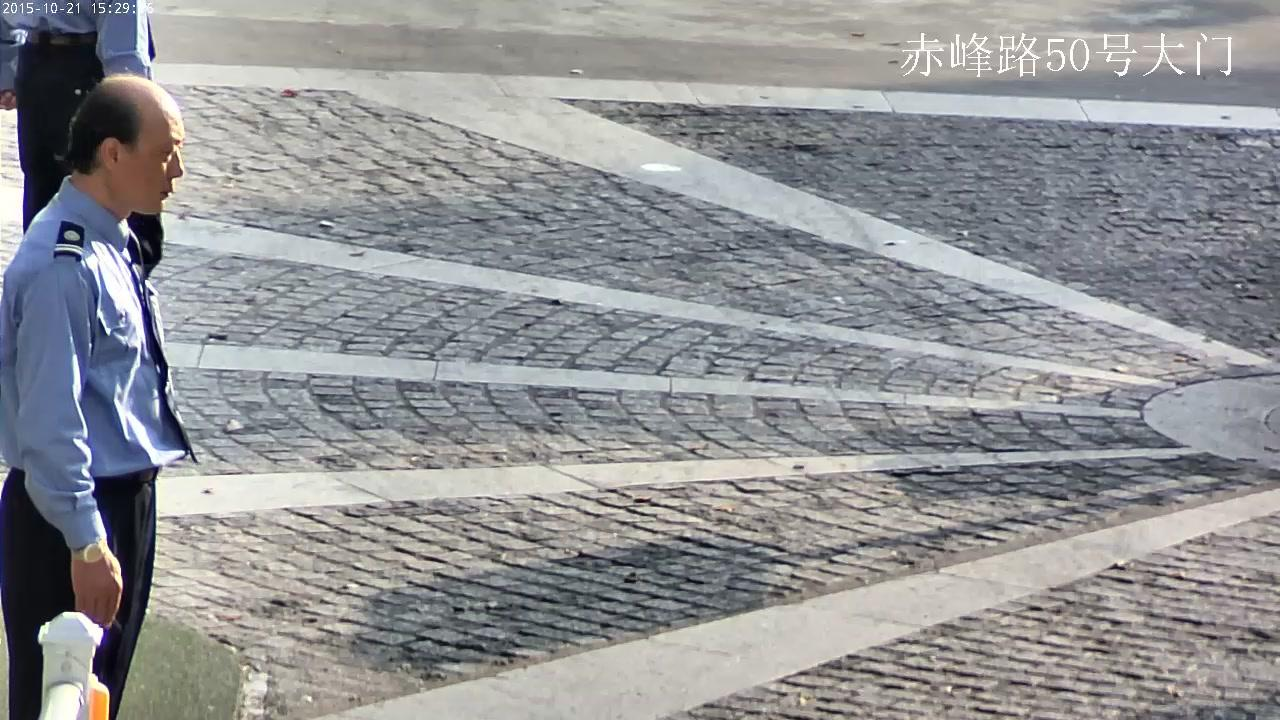face: (120, 106, 184, 215)
